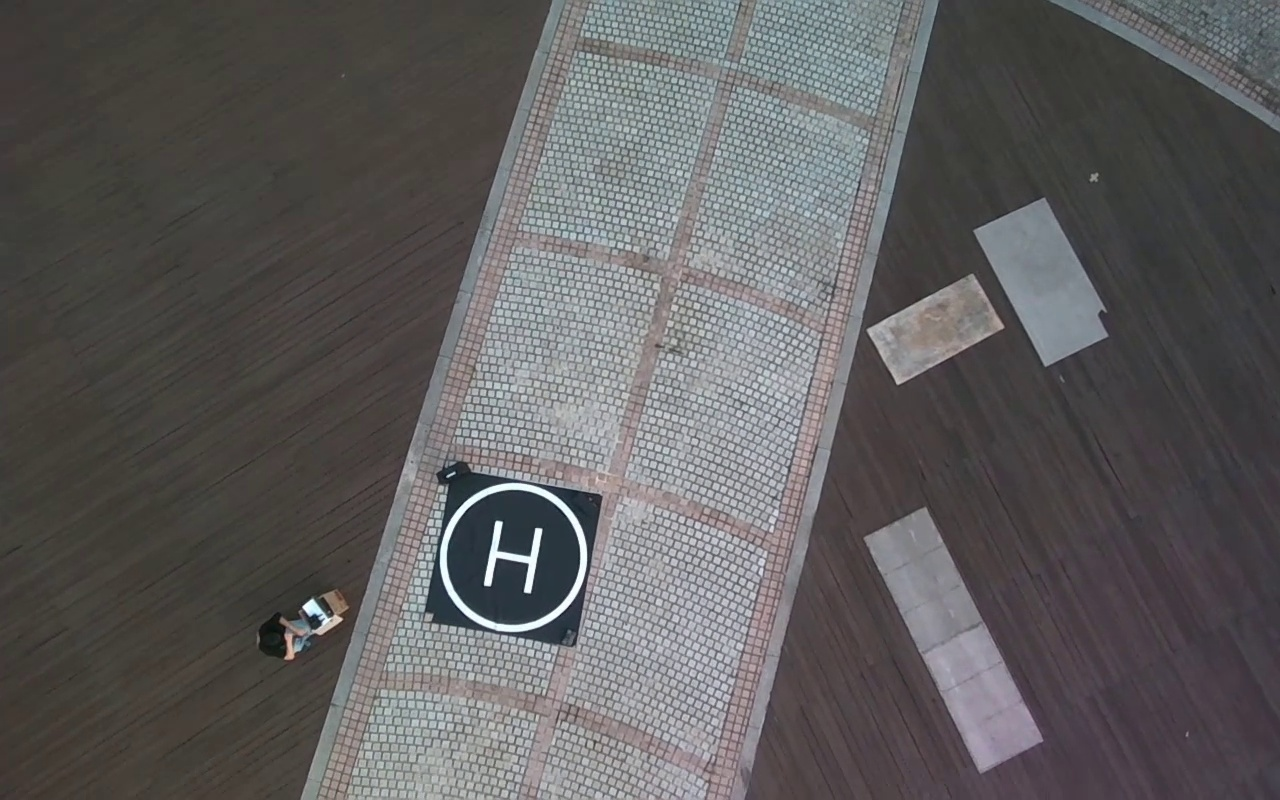H: (481, 518, 544, 595)
heliport: (436, 481, 590, 634)
